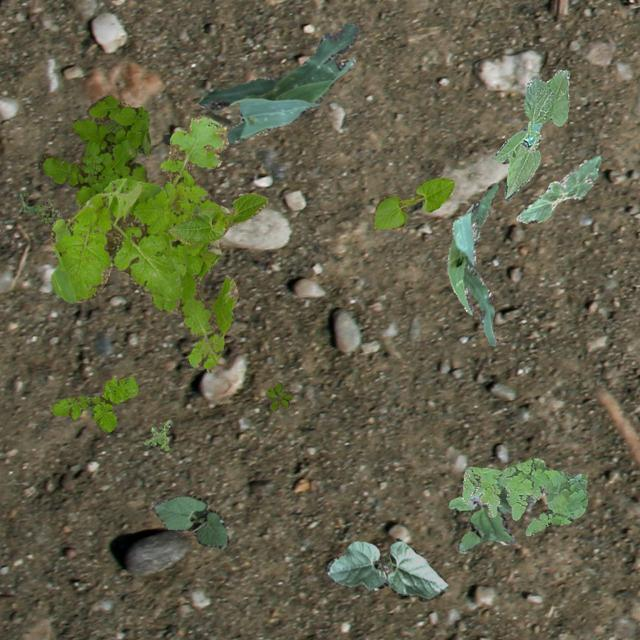crop: (162, 22, 358, 150), (492, 68, 568, 200), (446, 182, 496, 344), (324, 536, 446, 600), (516, 154, 600, 222), (168, 192, 268, 244), (372, 176, 454, 228), (150, 494, 228, 548)
weed: (49, 110, 238, 372), (39, 95, 150, 206), (462, 456, 586, 534), (448, 487, 534, 552), (48, 374, 136, 430), (18, 192, 60, 224), (142, 418, 170, 449), (266, 382, 292, 409)
